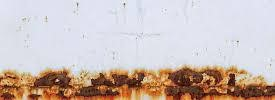Corrosion: (1, 65, 275, 100)
